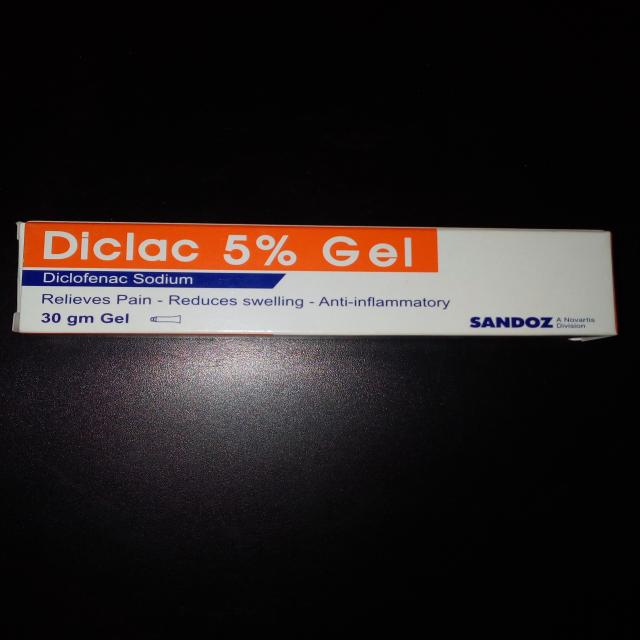Medicine: (12, 216, 628, 342)
